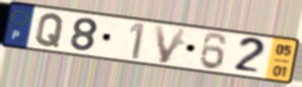1: (128, 21, 147, 61)
2: (231, 36, 270, 79)
6: (198, 31, 228, 71)
8: (69, 16, 99, 53)
Q: (33, 12, 66, 49)
V: (152, 24, 190, 66)
